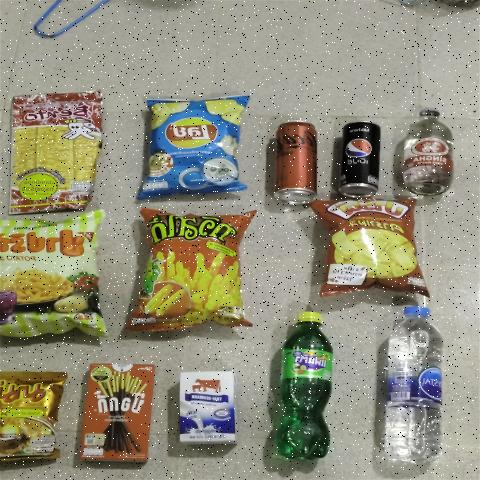bento_red: (7, 88, 110, 212)
coke_red: (268, 119, 321, 203)
crystal: (370, 303, 448, 476)
fanta_green: (268, 303, 340, 468)
lay_blue: (149, 99, 241, 188)
mama: (0, 370, 74, 462)
paprika: (0, 216, 102, 338)
party_red: (326, 203, 419, 285)
pepsi_black: (344, 120, 380, 194)
pokki: (80, 364, 156, 460)
singha_soda: (398, 109, 462, 195)
thai_denmark: (176, 370, 236, 448)
twisco: (147, 215, 246, 325)
